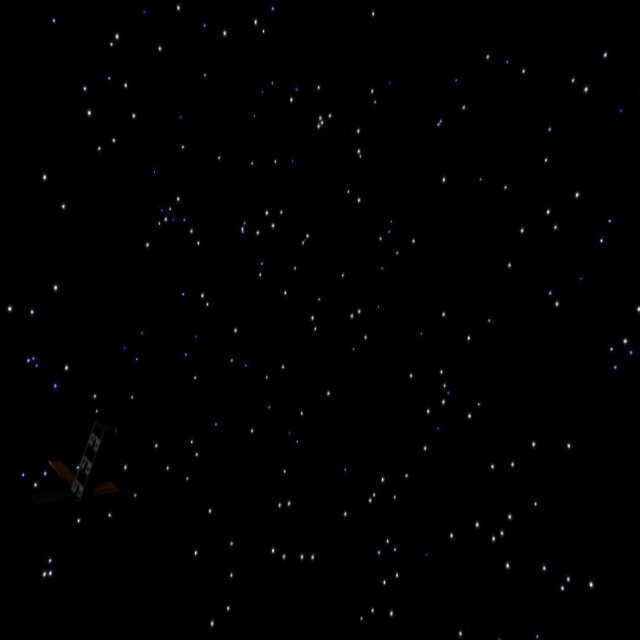satellite: (39, 424, 144, 519)
